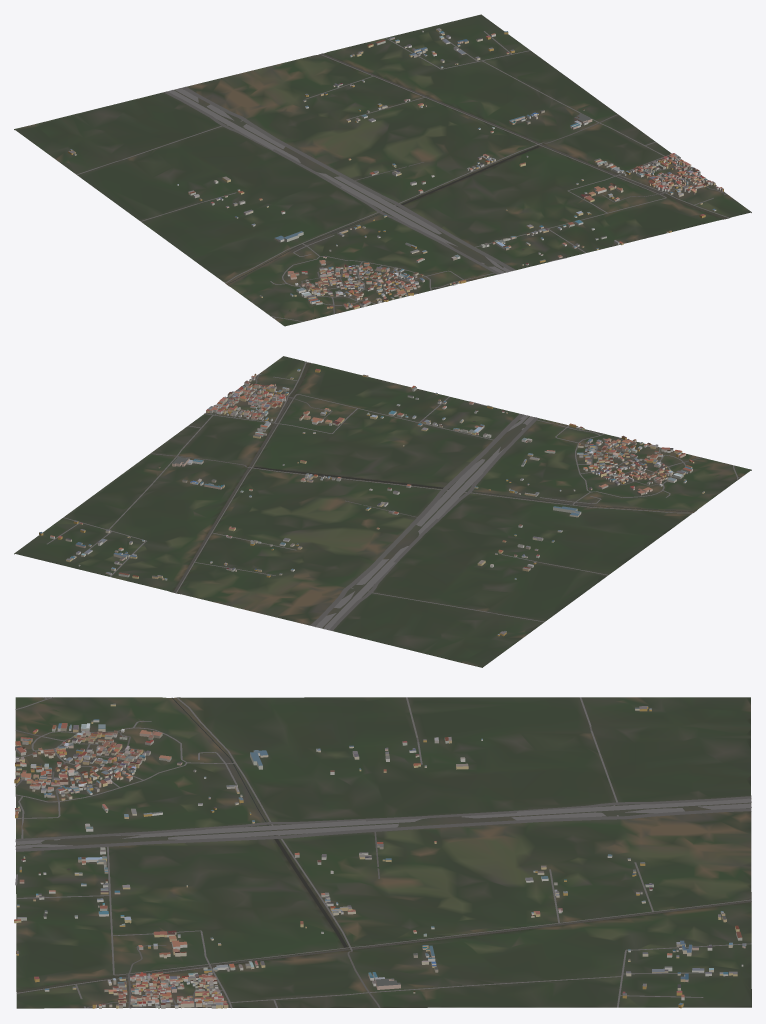
3 views of the same model, one above another, from view 1: azimuth 30°, elevation 25°; view 2: azimuth 150°, elevation 25°; view 3: azimuth 270°, elevation 25° (orthographic). The views are drawn at different scales.
Parts seen in each view (by area): view 1: ground, buildings, roads, water; view 2: ground, buildings, roads, water; view 3: ground, roads, buildings, water.
Boxes of the visible parts, <box> form: ground: <box>14,14,751,326</box>; buildings: <box>68,28,723,309</box>; roads: <box>77,31,728,321</box>; water: <box>227,53,726,284</box>; ground: <box>14,356,751,667</box>; buildings: <box>39,368,704,636</box>; roads: <box>47,361,741,630</box>; water: <box>173,362,694,592</box>; ground: <box>15,697,751,1008</box>; roads: <box>15,697,751,1008</box>; buildings: <box>14,703,746,1008</box>; water: <box>16,697,751,992</box>.
Bounding box in the file's own units: 1407 × 16.34 × 1407.
